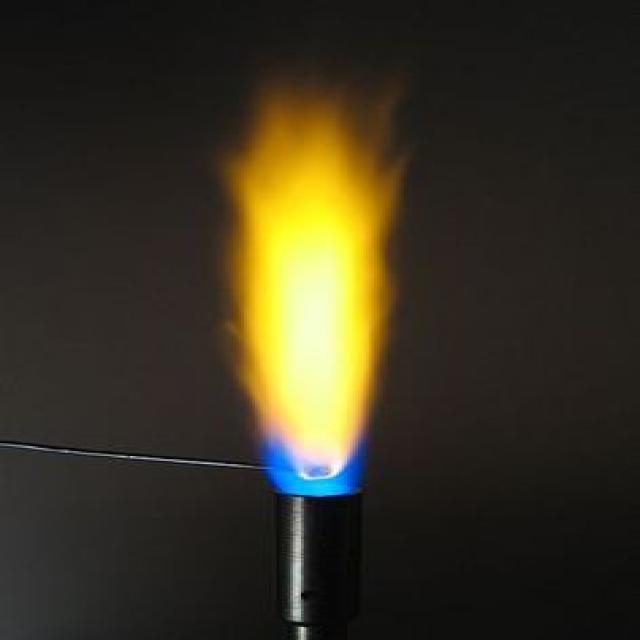Fire: (177, 68, 412, 508)
